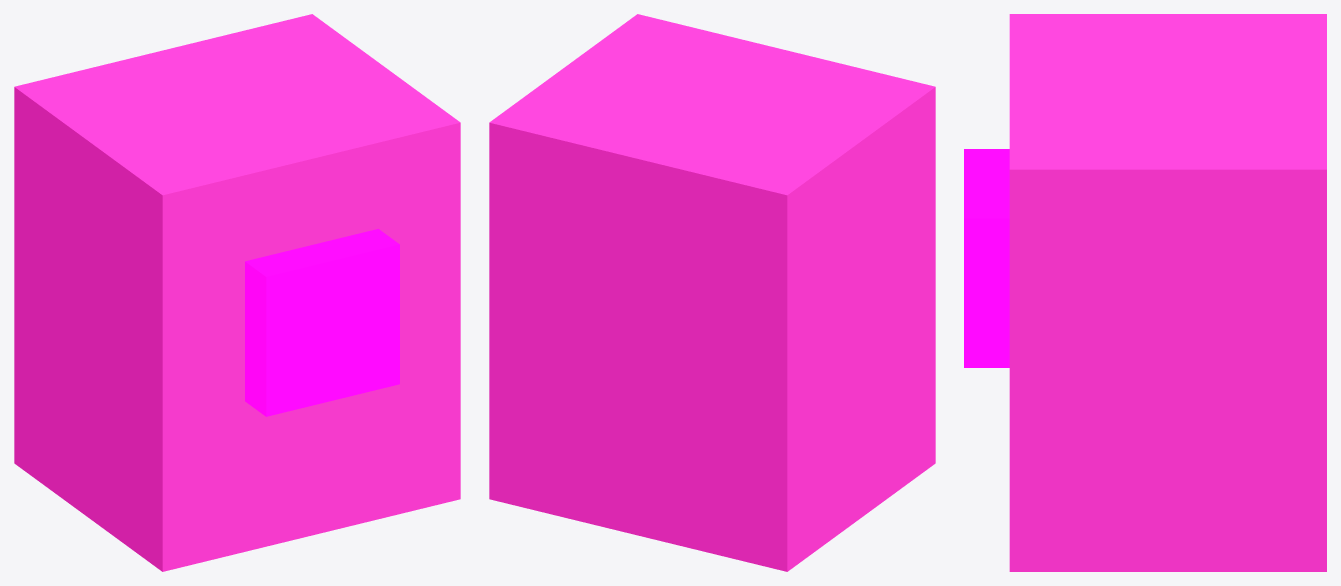
Rendered from enemy_golem.glb.
3 renders of one model, left to right at view 1: azimuth 30°, elevation 25°; view 2: azimuth 150°, elevation 25°; view 3: azimuth 270°, elevation 25°, orthographic. The views are drawn at different scales.
Visible parts, largest first — view 1: Torso, Core; view 2: Torso; view 3: Torso, Core.
Part boxes in pixels (x1,y1,x2,y2): Torso: (14, 14, 460, 571); Core: (245, 229, 399, 416); Torso: (489, 14, 935, 571); Torso: (1009, 14, 1326, 571); Core: (964, 149, 1009, 367).
Bounding box in the file's own units: 1.45 × 1.75 × 1.43.
